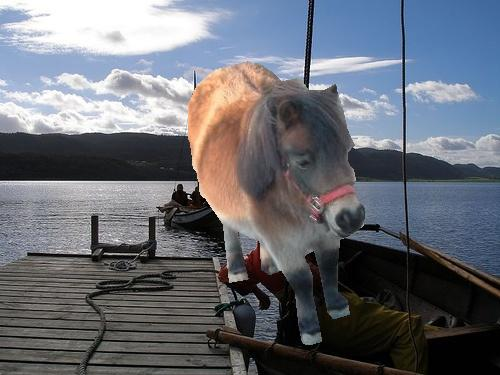tampered: (189, 62, 365, 345)
